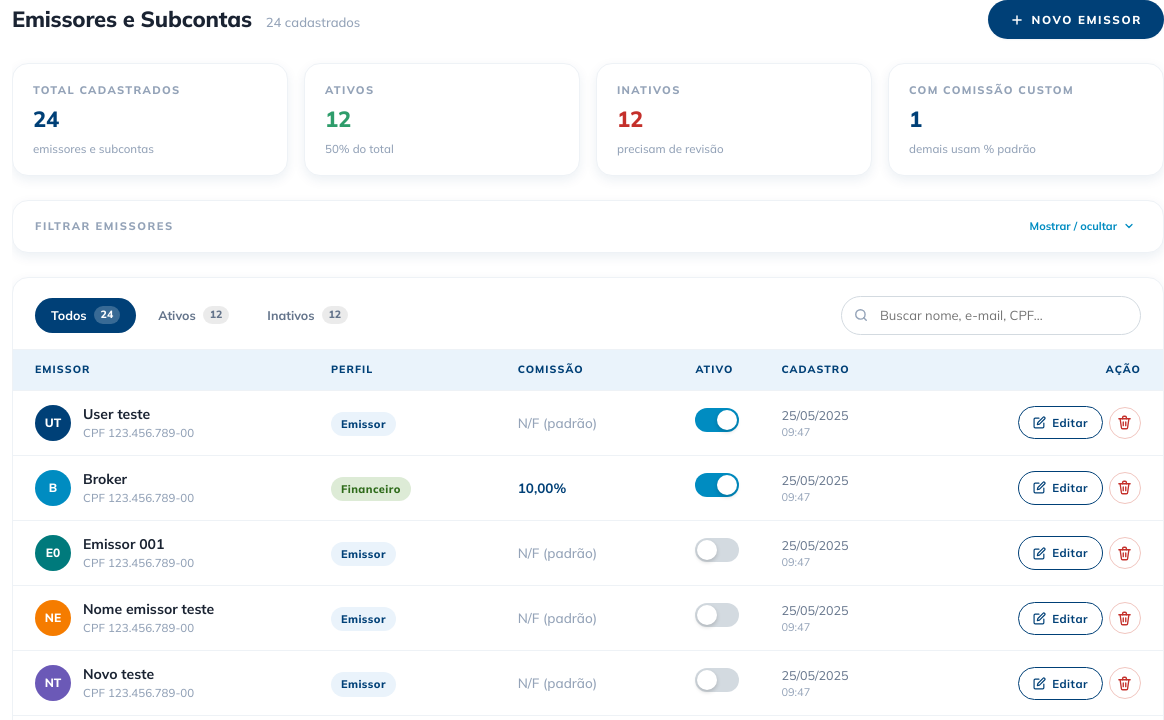
it: EmissoresListSection › tab Ativos filtra apenas emissores com ativo true
Click the button "Ativos 12": x=194, y=315 top-left (142, 298), bottom-right (245, 333)
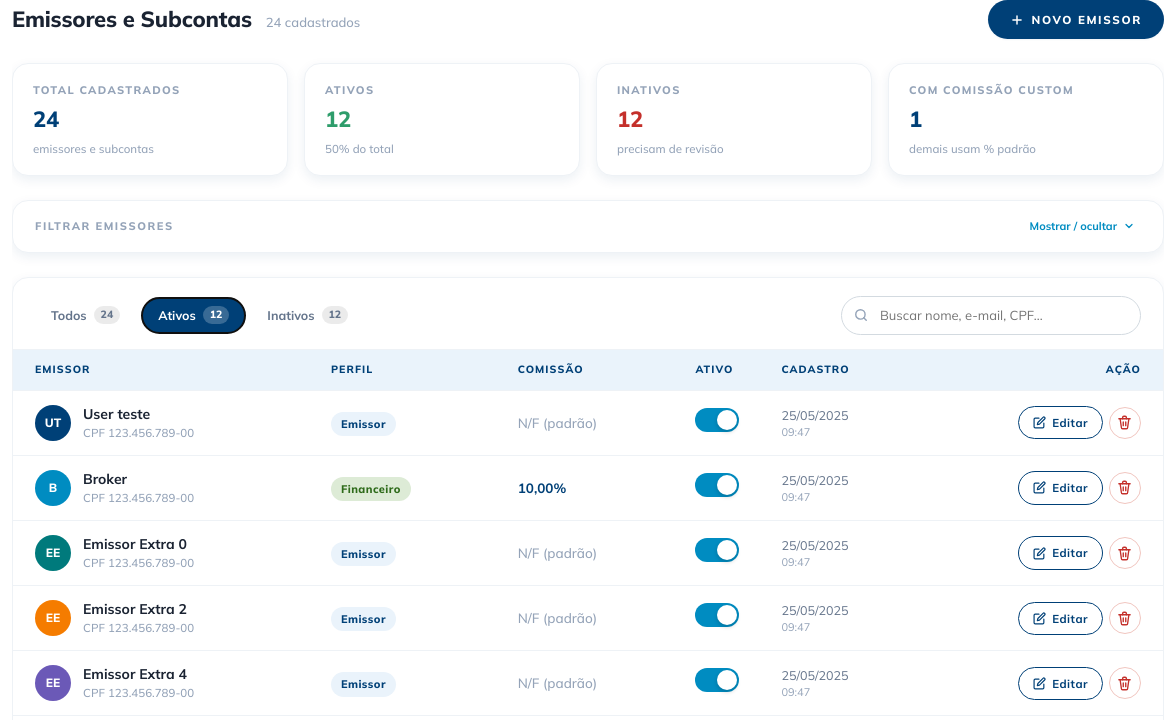
Expected: the text "User teste" is shown, top-left (83, 405), bottom-right (150, 423)
Now the text "Emissor 001" is gone
